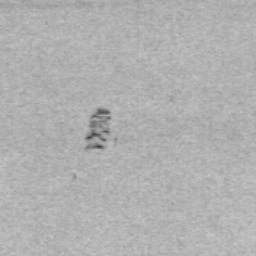Secondary rust skin: (86, 109, 110, 141), (87, 142, 103, 148)
